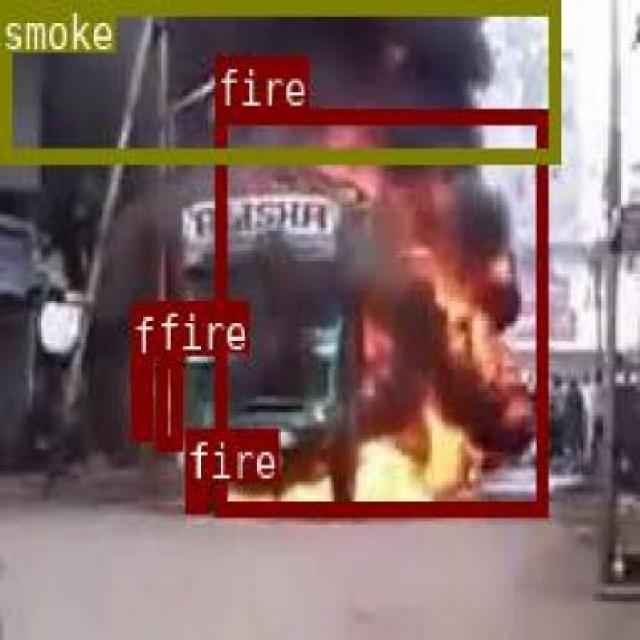fire: (213, 107, 544, 515), (156, 351, 178, 447), (128, 354, 148, 436), (183, 478, 206, 509)
smoke: (0, 0, 558, 161)
